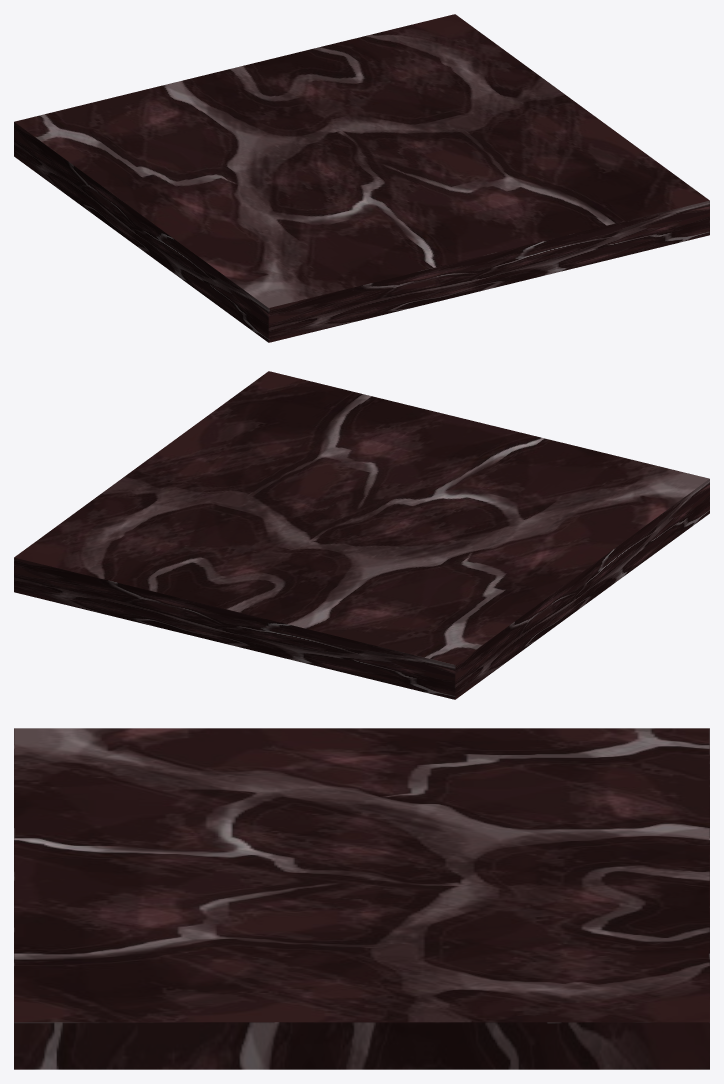
File: EspacioPornoTechoInteriorBajoNI.gltf
3 views of the same model, one above another, from view 1: azimuth 30°, elevation 25°; view 2: azimuth 150°, elevation 25°; view 3: azimuth 270°, elevation 25° (orthographic). The views are drawn at different scales.
Visible parts, largest first — view 1: Cubo.7; view 2: Cubo.7; view 3: Cubo.7.
Boxes of the visible parts, x1,y1,x2,y2 form: Cubo.7: (14, 14, 709, 342); Cubo.7: (14, 371, 709, 699); Cubo.7: (14, 728, 709, 1069).
Size of the model in its own units: 2 by 0.1503 by 2.
1 material, 1 textured.
